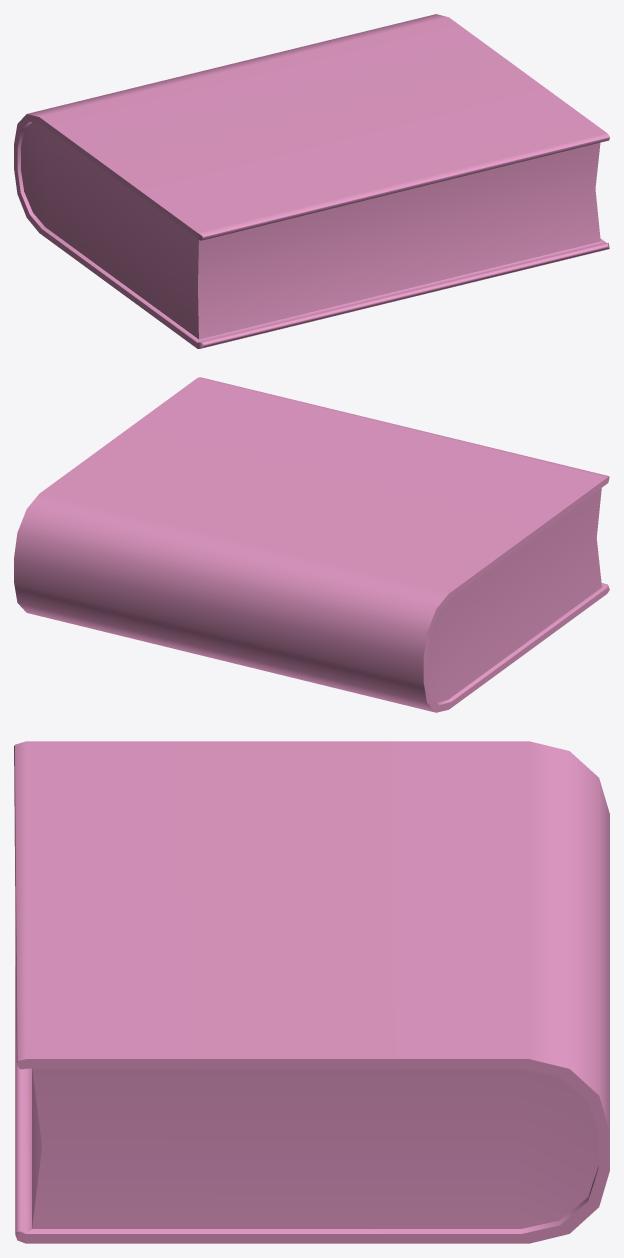
The model's file is Book_closed_Big.fbx.
3 views of the same model, one above another, from view 1: azimuth 30°, elevation 25°; view 2: azimuth 150°, elevation 25°; view 3: azimuth 270°, elevation 25° (orthographic). The views are drawn at different scales.
Visible parts, largest first — view 1: Book_closed_Big; view 2: Book_closed_Big; view 3: Book_closed_Big.
Part boxes in pixels (box(x1,y1,x2,y2)): Book_closed_Big: box(14, 14, 609, 348); Book_closed_Big: box(14, 377, 609, 712); Book_closed_Big: box(14, 741, 609, 1243).
Size of the model in its own units: 3.69 by 1 by 2.93.
